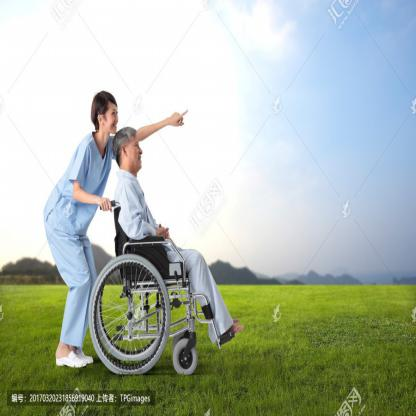wheelchair: (89, 126, 244, 382)
